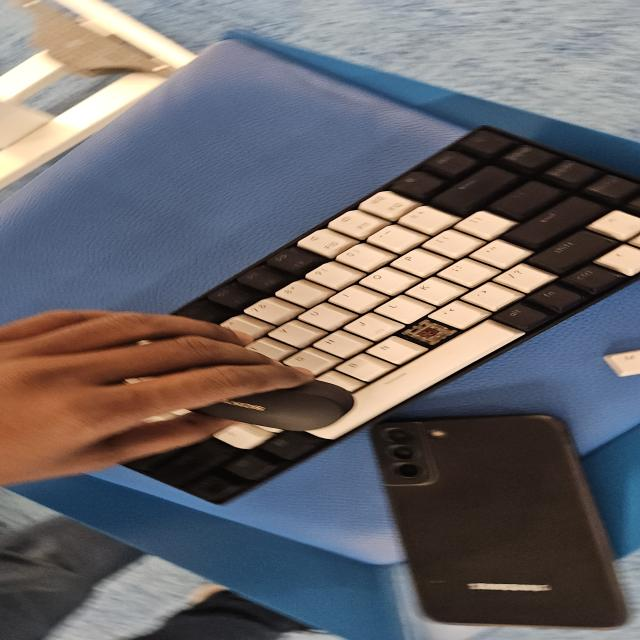C: (410, 322, 445, 339), (408, 323, 446, 338)
